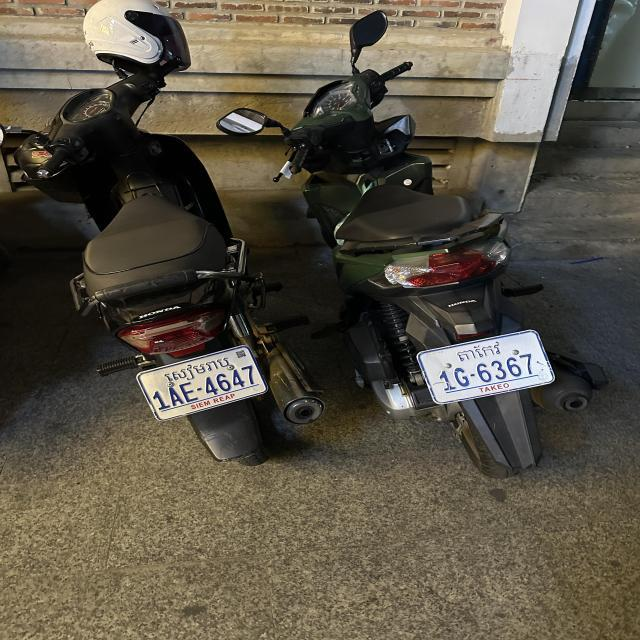Siem_Reap: (164, 354, 232, 384)
Takeo: (455, 338, 506, 362)
